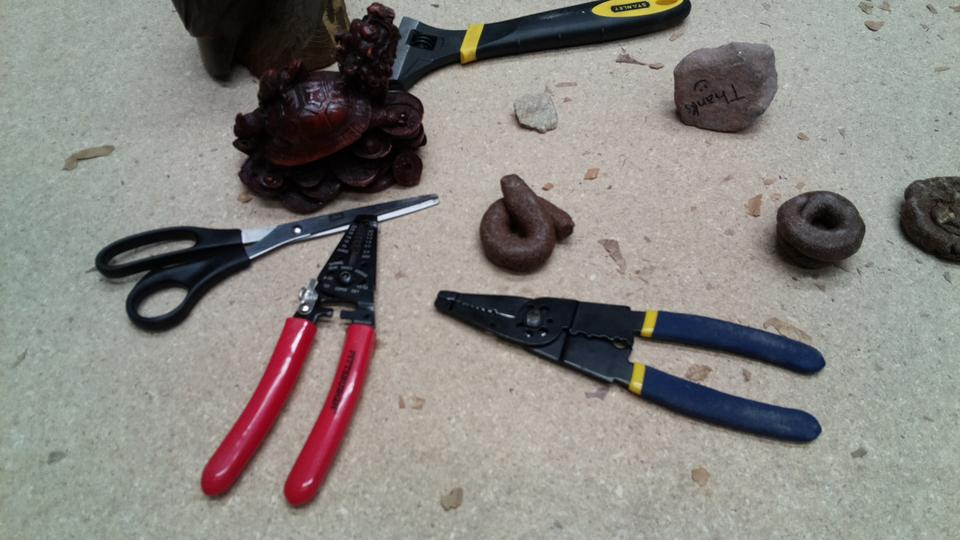poop: (472, 172, 576, 276), (773, 186, 870, 273), (895, 168, 960, 271)
